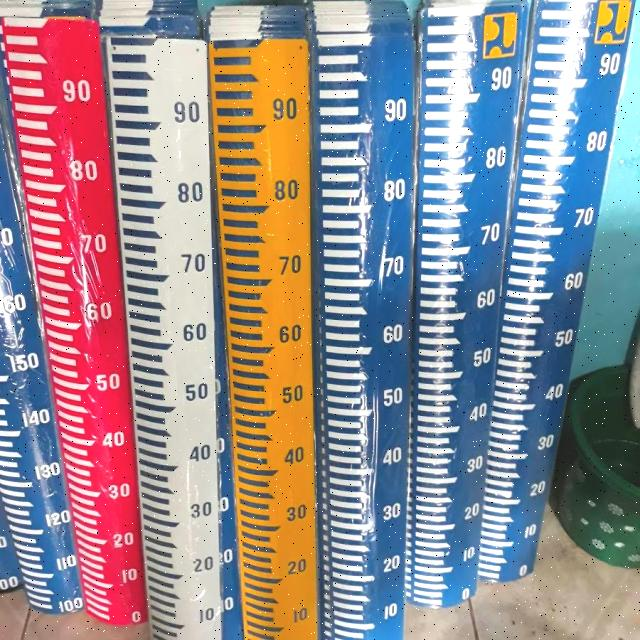10: (194, 604, 216, 625), (118, 566, 140, 586), (290, 606, 312, 624), (520, 521, 538, 543), (382, 603, 398, 623), (461, 544, 474, 563)
20: (190, 551, 216, 576), (526, 477, 548, 501), (460, 497, 480, 523), (112, 530, 138, 548), (288, 555, 308, 578), (381, 555, 404, 574)
30: (282, 502, 308, 527), (381, 499, 405, 523), (107, 480, 132, 503), (189, 497, 212, 522), (466, 450, 487, 477), (535, 430, 557, 453)
40: (278, 441, 308, 471), (185, 442, 213, 467), (381, 443, 404, 470), (102, 430, 130, 450), (544, 380, 564, 406), (470, 399, 487, 422)
50: (278, 379, 306, 406), (179, 378, 208, 404), (92, 370, 121, 395), (379, 383, 408, 406), (472, 343, 494, 369), (556, 327, 574, 347)
60: (178, 320, 209, 350), (83, 299, 115, 324), (274, 319, 302, 347), (381, 320, 408, 349), (562, 268, 586, 292), (476, 287, 498, 311)
70: (180, 249, 210, 279), (379, 252, 408, 280), (276, 252, 304, 280), (78, 230, 108, 256), (573, 202, 598, 232), (481, 219, 504, 247)
80: (68, 155, 100, 185), (174, 178, 206, 207), (582, 125, 610, 154), (273, 175, 300, 205), (485, 140, 509, 172), (383, 175, 408, 202)
90: (58, 76, 92, 106), (168, 97, 201, 127), (383, 96, 410, 125), (270, 96, 300, 121), (490, 66, 515, 94), (598, 51, 624, 76)
staff: (488, 0, 636, 596), (106, 38, 218, 640), (313, 36, 415, 640), (215, 37, 316, 640), (412, 2, 478, 609), (0, 18, 109, 370)
